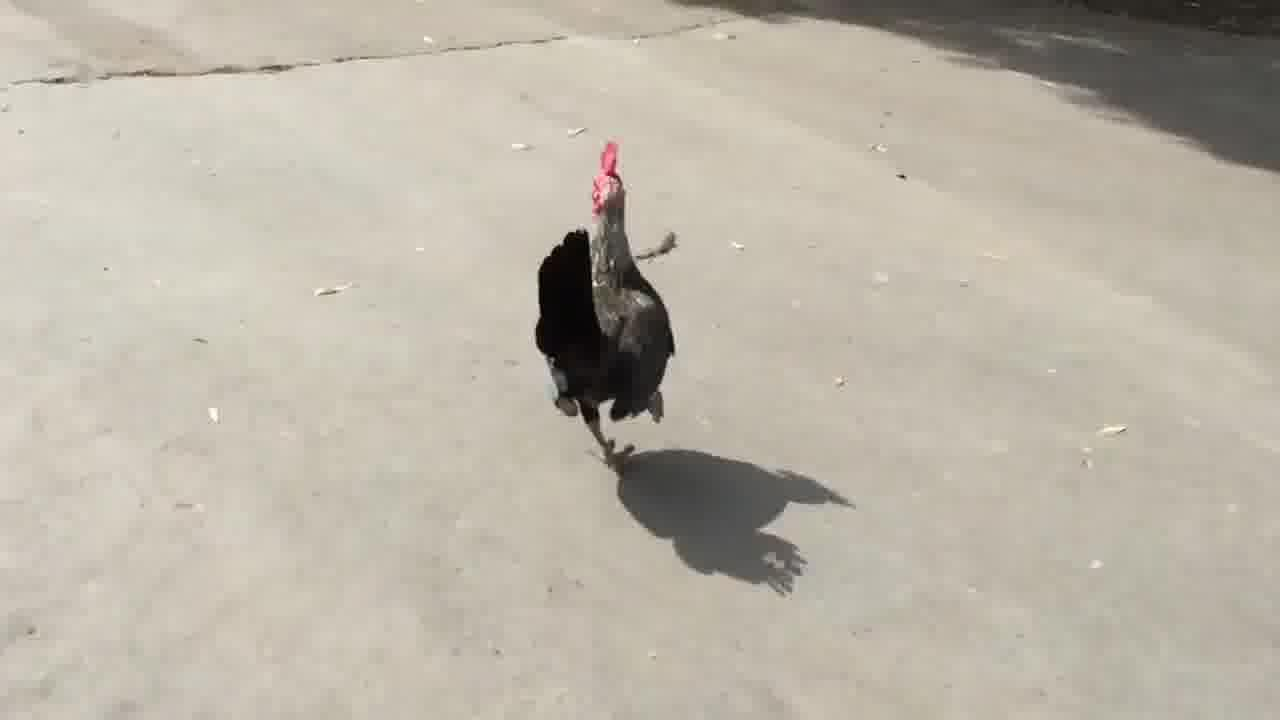Normal: (532, 140, 700, 474)
